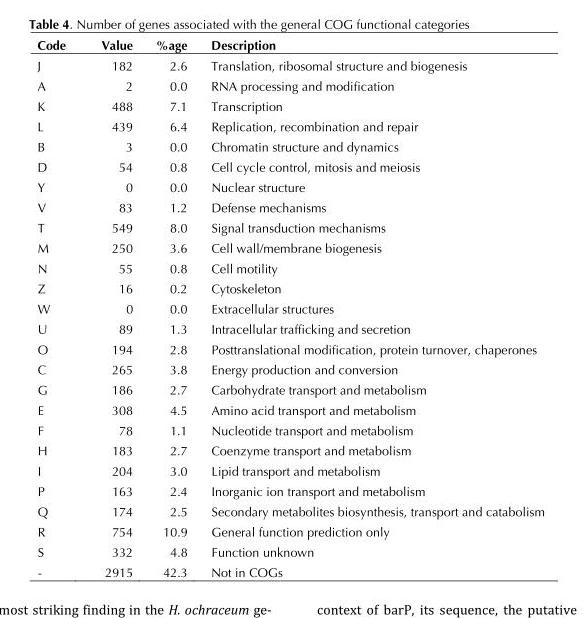table: (36, 37, 543, 579)
table column: (198, 37, 543, 579), (82, 37, 143, 579), (143, 37, 198, 579), (36, 37, 82, 579)
table column header: (36, 37, 543, 54)
table row: (36, 54, 543, 75), (36, 95, 543, 116), (36, 176, 543, 197), (36, 257, 543, 278), (36, 338, 543, 359), (36, 419, 543, 440), (36, 480, 543, 501), (36, 75, 543, 95), (36, 116, 543, 136), (36, 136, 543, 156), (36, 156, 543, 176), (36, 197, 543, 217), (36, 217, 543, 237), (36, 237, 543, 257), (36, 278, 543, 298), (36, 298, 543, 318), (36, 318, 543, 338), (36, 359, 543, 379), (36, 379, 543, 399), (36, 399, 543, 419), (36, 440, 543, 460), (36, 460, 543, 480), (36, 501, 543, 521), (36, 521, 543, 541), (36, 541, 543, 561), (36, 561, 543, 579), (36, 37, 543, 54)
